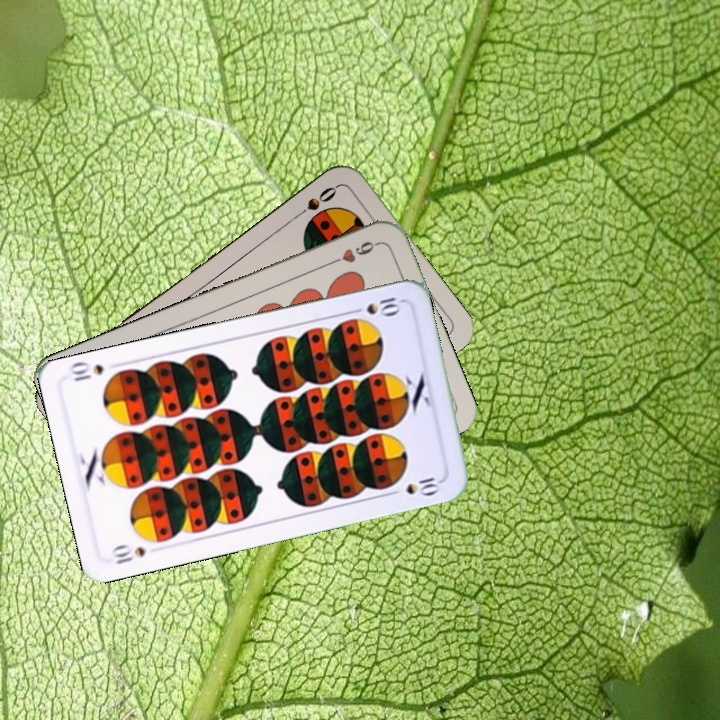H9: (325, 237, 382, 268)
S10: (346, 293, 403, 319), (107, 540, 148, 567)
SO: (289, 182, 340, 222)
